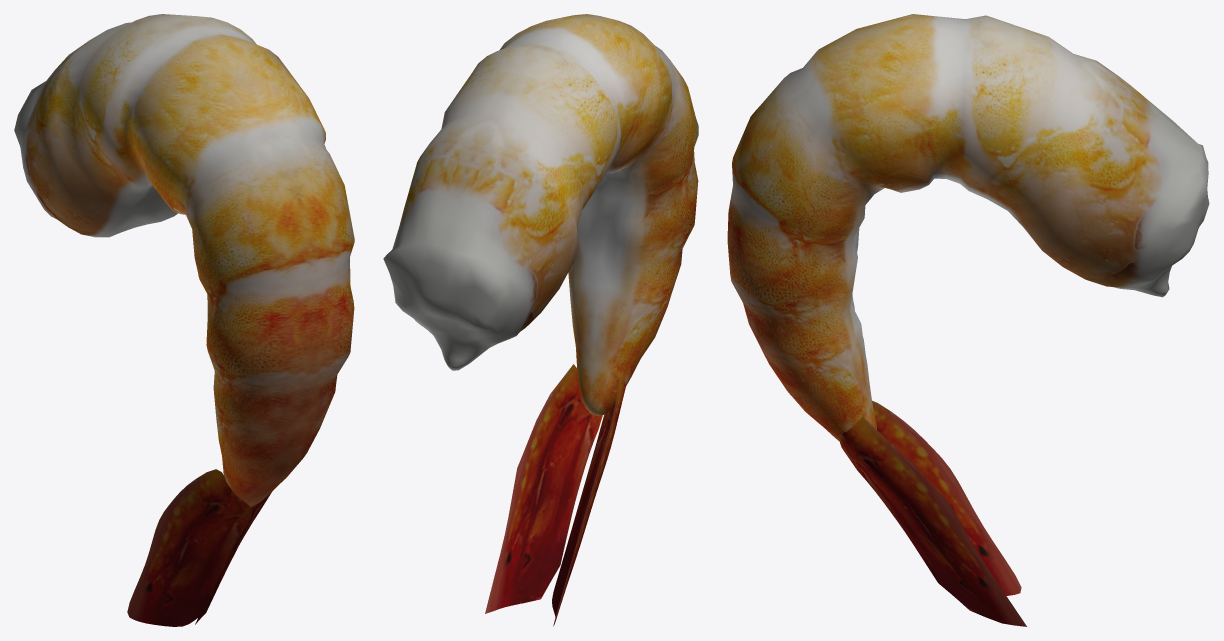
The model's file is Shrimp.glb.
The picture shows the model from 3 angles, left to right: view 1: azimuth 30°, elevation 25°; view 2: azimuth 150°, elevation 25°; view 3: azimuth 270°, elevation 25°; orthographic projection. The views are drawn at different scales.
Visible parts, largest first — view 1: Shrimp_Mesh_Baked; view 2: Shrimp_Mesh_Baked; view 3: Shrimp_Mesh_Baked.
Boxes of the visible parts, <box> form: Shrimp_Mesh_Baked: <box>14,14,354,626</box>; Shrimp_Mesh_Baked: <box>383,14,698,626</box>; Shrimp_Mesh_Baked: <box>727,14,1209,626</box>.
Size of the model in its own units: 0.5883 by 2.02 by 1.5.
Materials: 1 (1 with a texture image).
